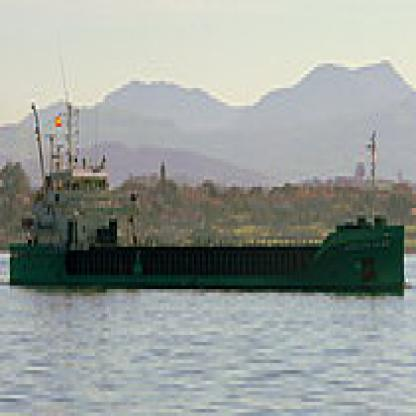Container Ship: (7, 95, 407, 296)
